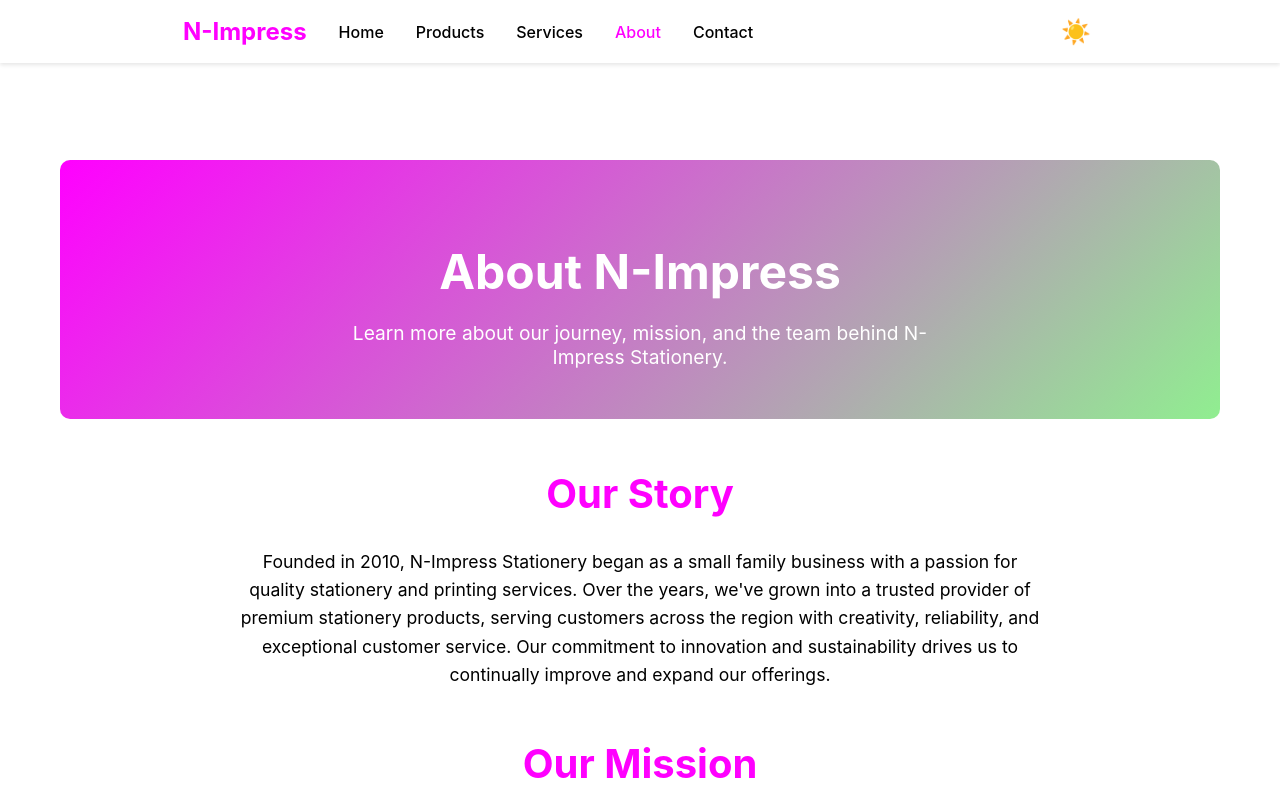
Test: App Routing › navigates to Contact page
This screenshot has width=1280, height=800.
Click the link "Contact": (723, 32) [693,22,753,42]
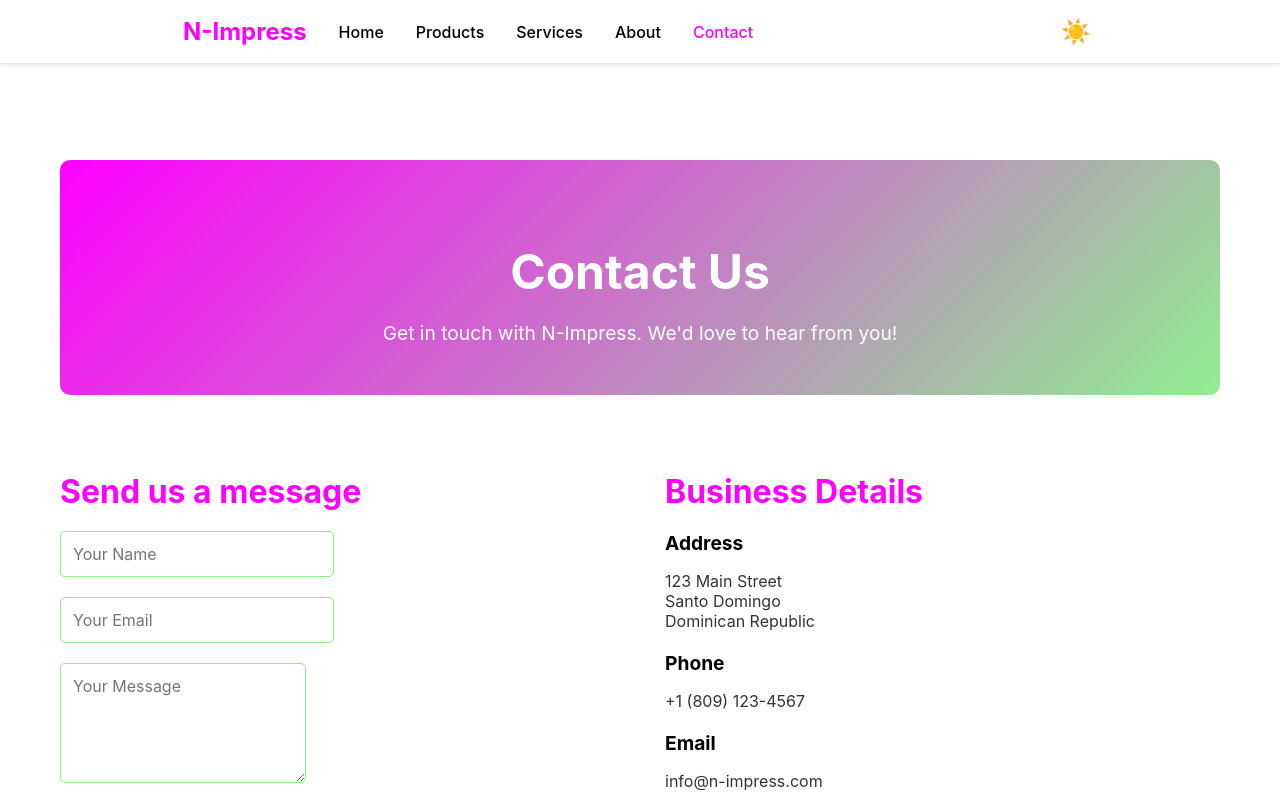
Now the heading "Contact Us" is shown, box [510,242,770,301]
